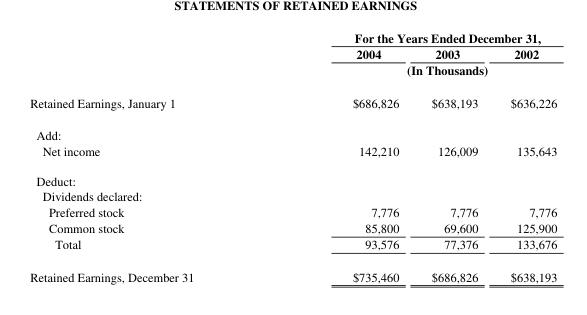table: (29, 28, 556, 284)
table column: (29, 28, 272, 284), (272, 28, 414, 284), (414, 28, 493, 284), (493, 28, 556, 284)
table column header: (29, 28, 556, 86)
table projected row header: (29, 118, 556, 142), (29, 165, 556, 187), (29, 187, 556, 203)
table row: (29, 86, 556, 118), (29, 61, 556, 86), (29, 259, 556, 284), (29, 118, 556, 142), (29, 235, 556, 259), (29, 142, 556, 165), (29, 165, 556, 187), (29, 28, 556, 45), (29, 45, 556, 61), (29, 187, 556, 203), (29, 203, 556, 219), (29, 219, 556, 235)
table spanning cell: (272, 61, 556, 86), (272, 28, 556, 45)
